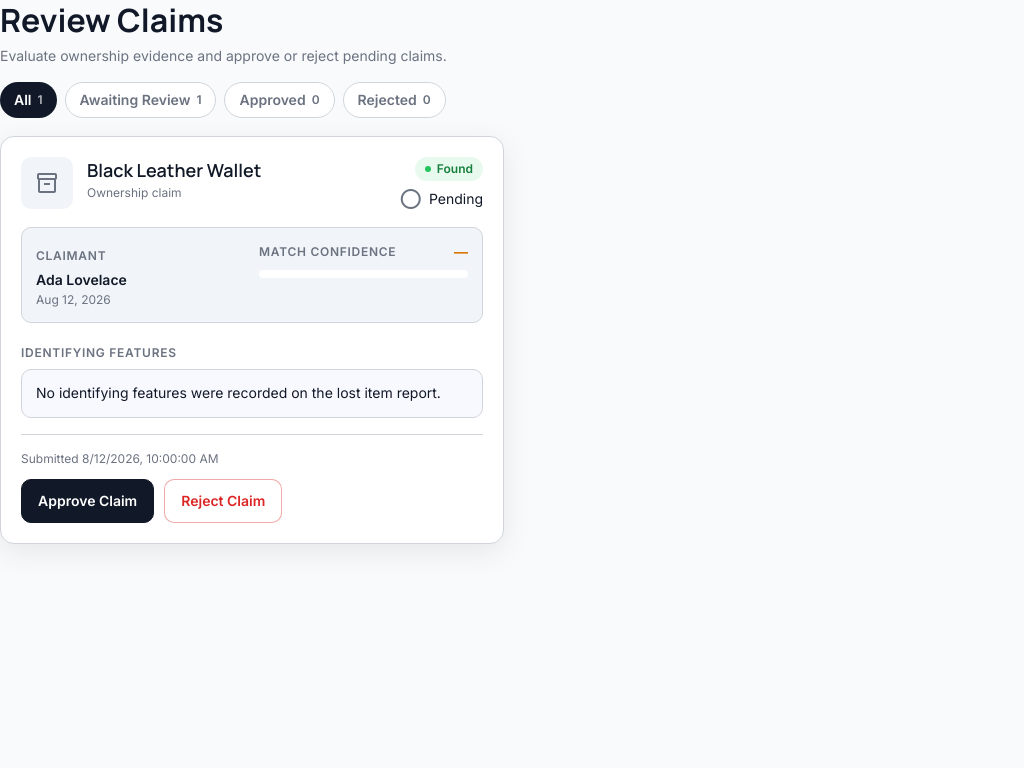
Test: ReviewClaims › opens reject modal when 'Reject Claim' is clicked
Expected: the text "Ownership claim" is shown, x1=87 y1=185 x2=182 y2=200
Click the button "Reject Claim": (223, 501) x1=164 y1=479 x2=282 y2=523
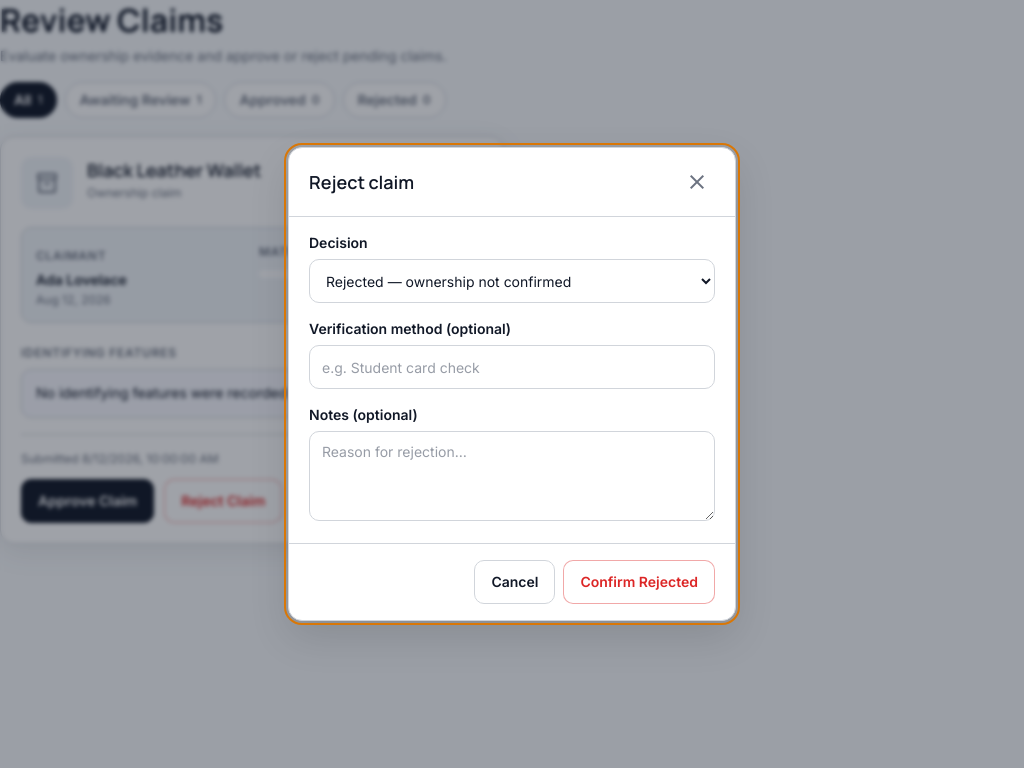
Now the dialog is shown, box x1=288 y1=147 x2=736 y2=621
Now the heading "Reject claim" is shown, box x1=309 y1=169 x2=414 y2=195
